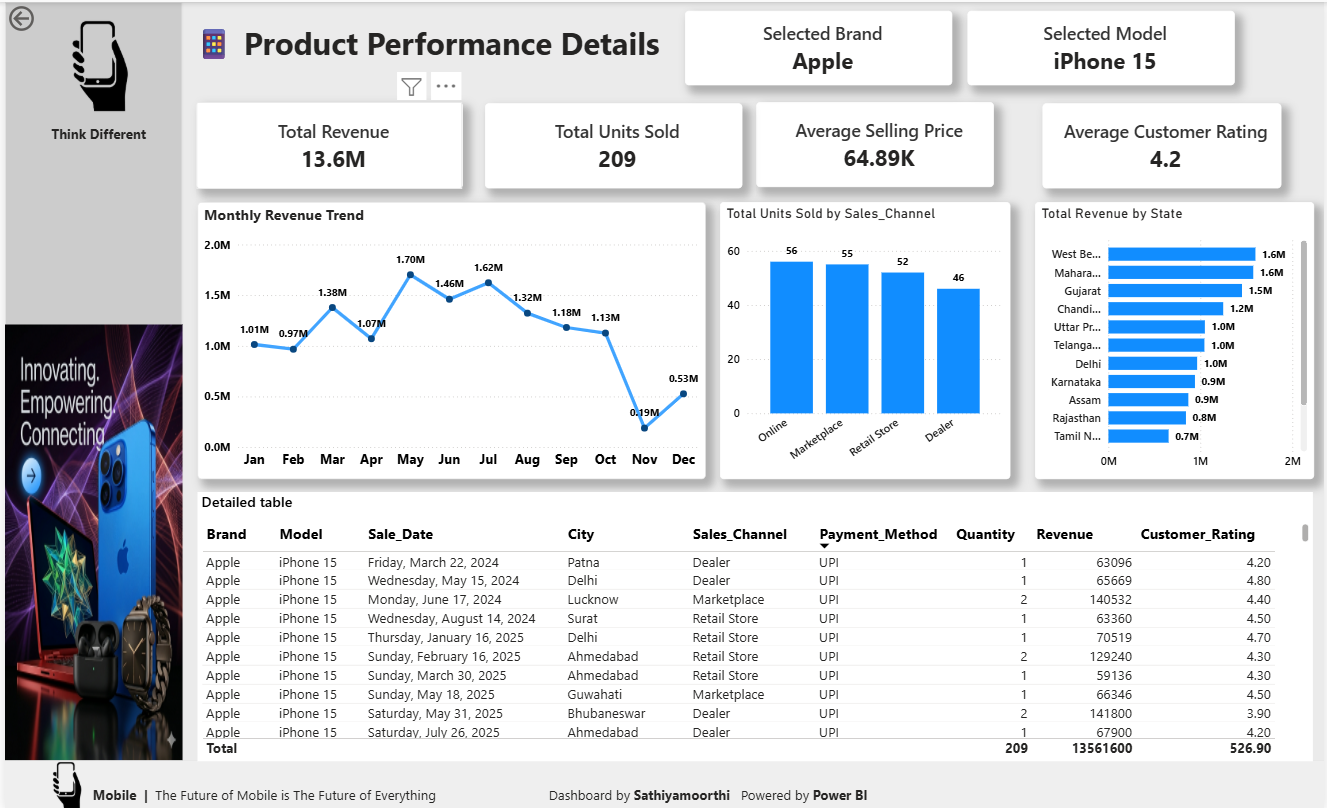

Layout of this report page (visuals, bound fields, positions):
{"tool":"powerbi","page":{"name":"Product Details","canvas":[1600,980],"ordinal":3},"visuals":[{"type":"shape","box":[0,0,215,920],"z":0},{"type":"shape","box":[215,0,1385,920],"z":1000},{"type":"textbox","box":[223.4,20.3,762.5,80],"z":2000},{"type":"cardVisual","title":"Total Revenue","fields":{"Data":["Measure.Average Selling Price"]},"box":[911.2,121.6,288.3,103.3],"z":3000},{"type":"cardVisual","title":"Total Revenue","fields":{"Data":["Measure.Total Units Sold"]},"box":[581.5,123.3,311.7,103.3],"z":4000},{"type":"cardVisual","title":"Total Revenue","fields":{"Data":["Measure.Total Revenue"]},"box":[231.5,121.6,323.3,105],"z":5000},{"type":"cardVisual","title":"Total Revenue","fields":{"Data":["Measure.Average Customer Rating"]},"box":[1258.2,123.3,289.8,103.3],"z":6000},{"type":"image","box":[0,391.7,215,528.3],"z":7000},{"type":"image","box":[54.7,20.3,121.9,115.6],"z":8000},{"type":"image","box":[48.3,920,53.3,60],"z":9000},{"type":"textbox","box":[101.7,945,1498.3,35],"z":10000},{"type":"textbox","box":[39.1,143.8,148.4,45.3],"z":11000},{"type":"actionButton","box":[0,0,100,40],"z":12000},{"type":"lineChart","title":"Monthly Revenue Trend","fields":{"Y":["Measure.Total Revenue"],"Category":["DimDate.Month"]},"box":[234,242,616,336],"z":13000},{"type":"clusteredBarChart","fields":{"Category":["DimLocation.State"],"Y":["Measure.Total Revenue"]},"box":[1248,242,338,336],"z":14000},{"type":"clusteredColumnChart","fields":{"Category":["FactSales.Sales_Channel"],"Y":["Measure.Total Units Sold"]},"box":[866,242,352,336],"z":15000},{"type":"tableEx","title":"Detailed table","fields":{"Values":["DimProduct.Brand","DimProduct.Model","FactSales.Sale_Date","DimLocation.City","FactSales.Sales_Channel","FactSales.Payment_Method","Sum(FactSales.Quantity)","Sum(FactSales.Revenue)","Sum(FactSales.Customer_Rating)"]},"box":[234,594,1352,326],"z":16000},{"type":"cardVisual","title":"Total Revenue","fields":{"Data":["Min(DimProduct.Brand)"]},"box":[824,10,324,90],"z":17000},{"type":"cardVisual","title":"Total Revenue","fields":{"Data":["Min(DimProduct.Model)"]},"box":[1166,10,324,90],"z":18000}]}

Visuals, with their boxes in screenshot pixels (x1, y1, x2, y2), scaled from the page's 1600x980 canvas onto the 1327x808 screenshot:
shape: [x1=0, y1=0, x2=178, y2=759]
shape: [x1=178, y1=0, x2=1326, y2=759]
textbox: [x1=185, y1=17, x2=818, y2=83]
"Total Revenue" cardVisual: [x1=756, y1=100, x2=995, y2=185]
"Total Revenue" cardVisual: [x1=482, y1=102, x2=741, y2=187]
"Total Revenue" cardVisual: [x1=192, y1=100, x2=460, y2=187]
"Total Revenue" cardVisual: [x1=1044, y1=102, x2=1284, y2=187]
image: [x1=0, y1=323, x2=178, y2=759]
image: [x1=45, y1=17, x2=146, y2=112]
image: [x1=40, y1=759, x2=84, y2=807]
textbox: [x1=84, y1=779, x2=1326, y2=807]
textbox: [x1=32, y1=119, x2=156, y2=156]
actionButton: [x1=0, y1=0, x2=83, y2=33]
"Monthly Revenue Trend" lineChart: [x1=194, y1=200, x2=705, y2=477]
clusteredBarChart - DimLocation.State x Measure.Total Revenue: [x1=1035, y1=200, x2=1315, y2=477]
clusteredColumnChart - FactSales.Sales_Channel x Measure.Total Units Sold: [x1=718, y1=200, x2=1010, y2=477]
"Detailed table" tableEx: [x1=194, y1=490, x2=1315, y2=759]
"Total Revenue" cardVisual: [x1=683, y1=8, x2=952, y2=82]
"Total Revenue" cardVisual: [x1=967, y1=8, x2=1236, y2=82]
